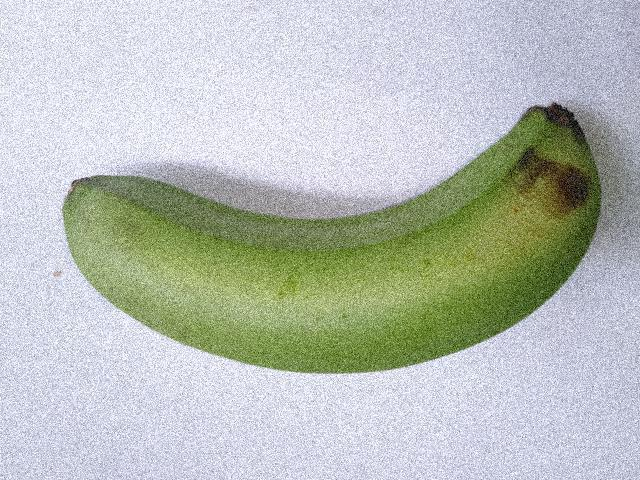freshunripe: (38, 91, 607, 383)
